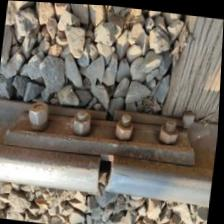person: (74, 145, 137, 202), (101, 103, 121, 124)
